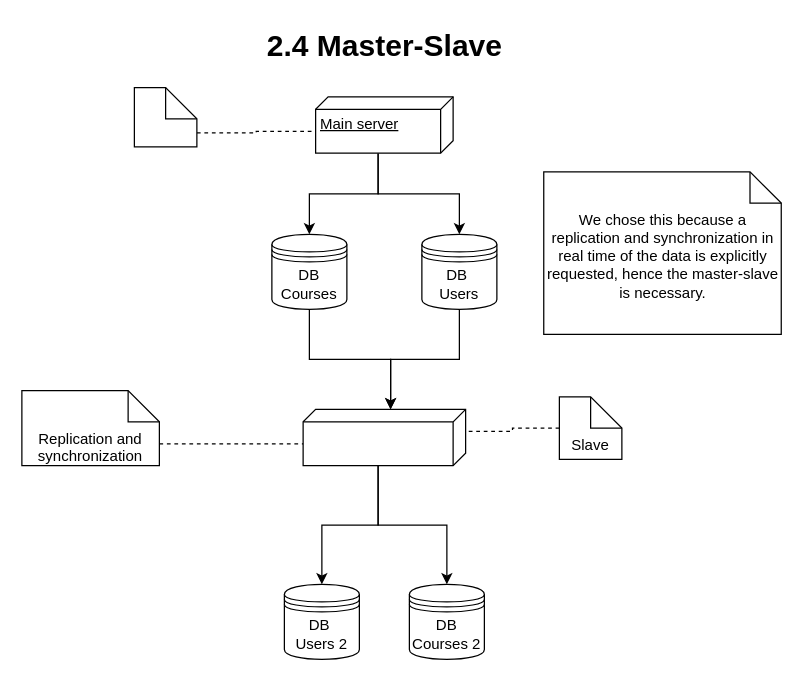
The diagram is 804 pixels wide and 681 high, and some of its shapes have lost their labels. Each missing label, with the centre of its shape:
"Master" goes at (165,116).
"Secondary server" goes at (384,437).
